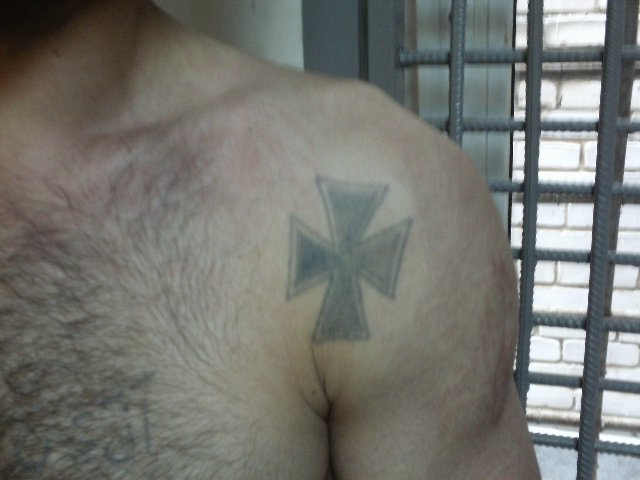tatu9_krest: (267, 167, 416, 352)
